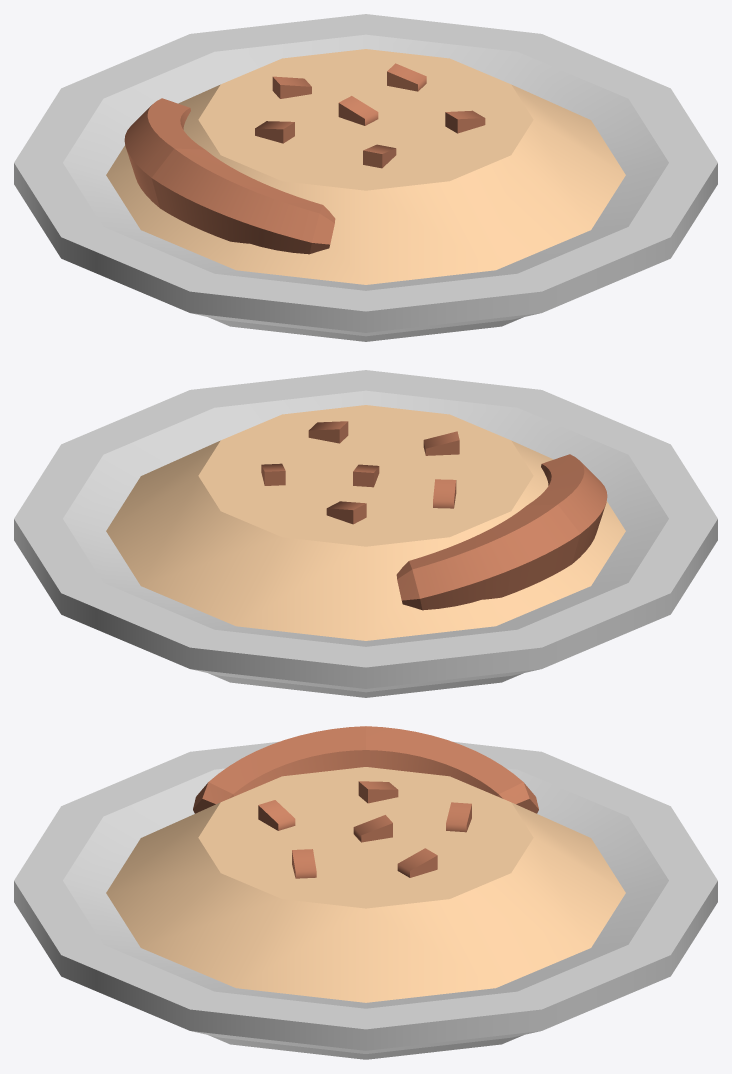
File: plateSauerkraut.dae
3 renders of one model, top to bottom at view 1: azimuth 30°, elevation 25°; view 2: azimuth 150°, elevation 25°; view 3: azimuth 270°, elevation 25°, orthographic.
Visible parts, largest first — view 1: plateSauerkraut, sausage; view 2: plateSauerkraut, sausage; view 3: plateSauerkraut, sausage.
Boxes of the visible parts, x1,y1,x2,y2 form: plateSauerkraut: [14, 14, 717, 341]; sausage: [124, 98, 335, 254]; plateSauerkraut: [14, 370, 717, 697]; sausage: [396, 454, 607, 610]; plateSauerkraut: [14, 741, 717, 1059]; sausage: [193, 726, 538, 813].
Bounding box in the file's own units: 0.8918 × 0.1752 × 0.8918.
